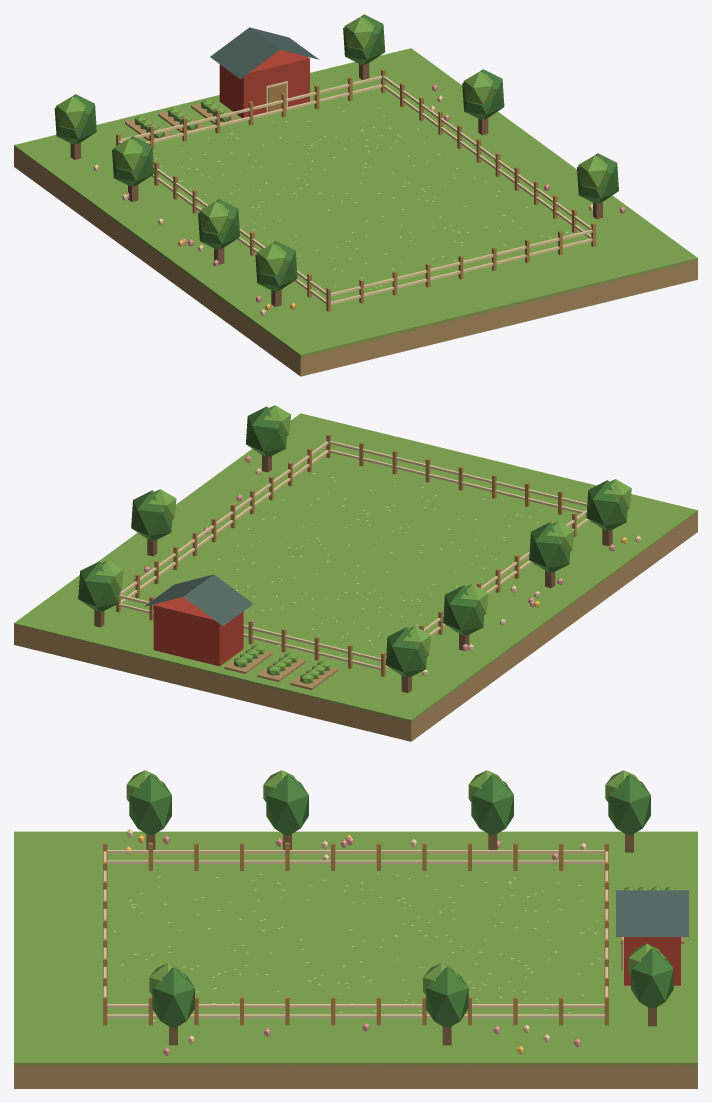
Rendered from garden.glb.
The picture shows the model from 3 angles, top to bottom: view 1: azimuth 30°, elevation 25°; view 2: azimuth 150°, elevation 25°; view 3: azimuth 270°, elevation 25°; orthographic projection. The views are drawn at different scales.
Parts seen in each view (by area): view 1: GardenChat_meadow, GardenChat_island, GardenChat_barn, GardenChat_barn_roof, GardenChat_fencerail, GardenChat_fencerail.001, GardenChat_tree_crown.004, GardenChat_tree_crown, GardenChat_tree_crown.006, GardenChat_tree_crown.001, GardenChat_tree_crown.002, GardenChat_tree_crown.003 (+12 smaller); view 2: GardenChat_meadow, GardenChat_island, GardenChat_barn, GardenChat_barn_roof, GardenChat_tree_crown.003, GardenChat_tree_crown.006, GardenChat_tree_crown.002, GardenChat_tree_crown.001, GardenChat_tree_crown, GardenChat_tree_crown.004, GardenChat_tree_crown.005, GardenChat_fencerail.001 (+5 smaller); view 3: GardenChat_meadow, GardenChat_island, GardenChat_barn_roof, GardenChat_tree_crown.006, GardenChat_tree_crown.005, GardenChat_tree_crown.004, GardenChat_tree_crown, GardenChat_tree_crown.002, GardenChat_tree_crown.001, GardenChat_tree_crown.003, GardenChat_fencerail.004, GardenChat_fencerail.005 (+3 smaller).
Part boxes in pixels (bbox=[...]): GardenChat_meadow: bbox=[14, 48, 697, 357]; GardenChat_island: bbox=[14, 146, 697, 376]; GardenChat_barn: bbox=[219, 49, 309, 118]; GardenChat_barn_roof: bbox=[210, 27, 319, 78]; GardenChat_fencerail: bbox=[331, 238, 592, 304]; GardenChat_fencerail.001: bbox=[331, 229, 592, 296]; GardenChat_tree_crown.004: bbox=[462, 69, 504, 119]; GardenChat_tree_crown: bbox=[255, 241, 297, 291]; GardenChat_tree_crown.006: bbox=[343, 14, 385, 64]; GardenChat_tree_crown.001: bbox=[198, 199, 240, 249]; GardenChat_tree_crown.002: bbox=[112, 136, 154, 186]; GardenChat_tree_crown.003: bbox=[54, 94, 96, 144]; GardenChat_meadow: bbox=[14, 413, 697, 722]; GardenChat_island: bbox=[14, 511, 697, 741]; GardenChat_barn: bbox=[153, 597, 243, 666]; GardenChat_barn_roof: bbox=[144, 574, 252, 625]; GardenChat_tree_crown.003: bbox=[385, 627, 426, 677]; GardenChat_tree_crown.006: bbox=[78, 561, 119, 611]; GardenChat_tree_crown.002: bbox=[443, 585, 484, 635]; GardenChat_tree_crown.001: bbox=[529, 522, 570, 572]; GardenChat_tree_crown: bbox=[586, 480, 627, 530]; GardenChat_tree_crown.004: bbox=[131, 490, 172, 540]; GardenChat_tree_crown.005: bbox=[246, 406, 286, 456]; GardenChat_fencerail.001: bbox=[329, 441, 587, 506]; GardenChat_meadow: bbox=[14, 831, 697, 1065]; GardenChat_island: bbox=[14, 1064, 697, 1088]; GardenChat_barn_roof: bbox=[616, 890, 688, 936]; GardenChat_tree_crown.006: bbox=[631, 948, 673, 1008]; GardenChat_tree_crown.005: bbox=[152, 967, 194, 1027]; GardenChat_tree_crown.004: bbox=[426, 967, 468, 1027]; GardenChat_tree_crown: bbox=[129, 774, 171, 834]; GardenChat_tree_crown.002: bbox=[471, 774, 513, 834]; GardenChat_tree_crown.001: bbox=[266, 774, 308, 834]; GardenChat_tree_crown.003: bbox=[608, 774, 650, 834]; GardenChat_fencerail.004: bbox=[107, 860, 604, 863]; GardenChat_fencerail.005: bbox=[107, 850, 604, 853].
Bounding box in the file's own units: 24 × 5 × 30.
